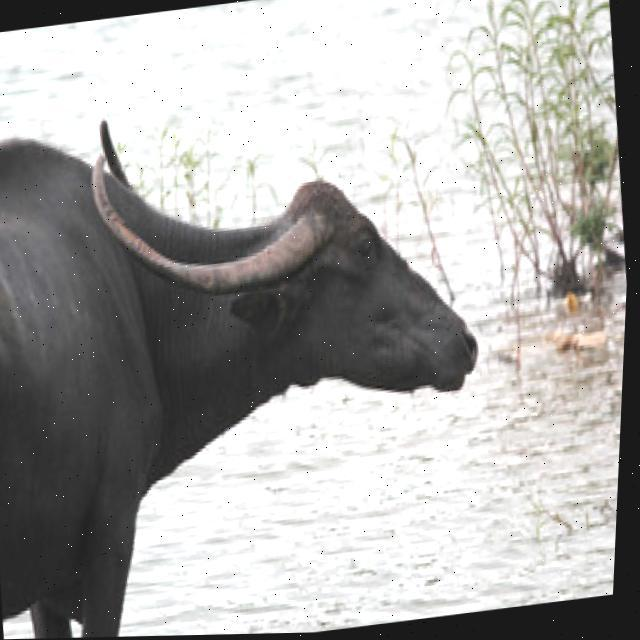Buffalo: (0, 67, 517, 640)
